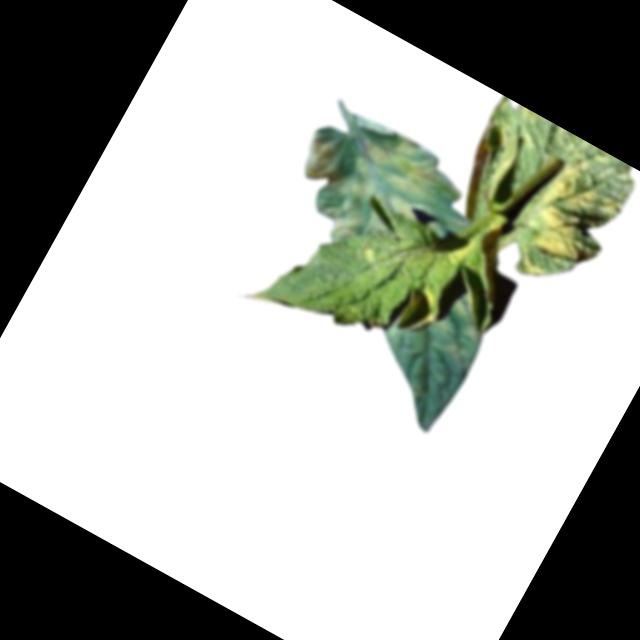Leaf_Mold: (271, 97, 473, 284), (499, 154, 628, 301), (421, 285, 501, 372), (392, 279, 446, 339)
